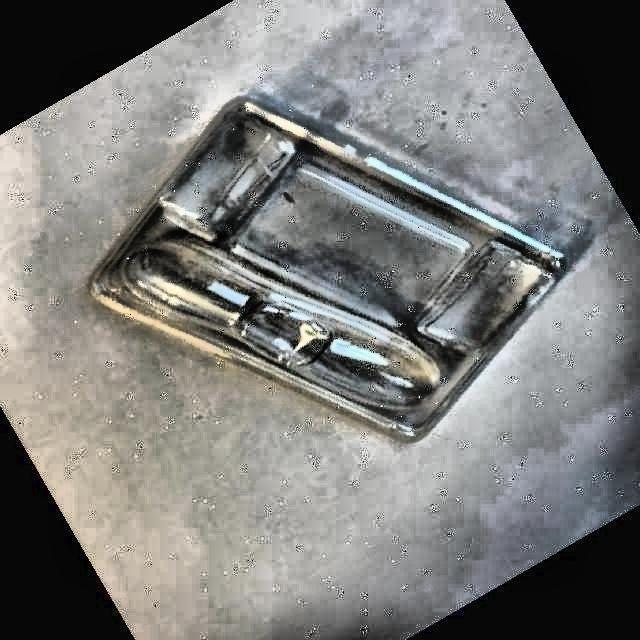plastic: (91, 97, 571, 438)
